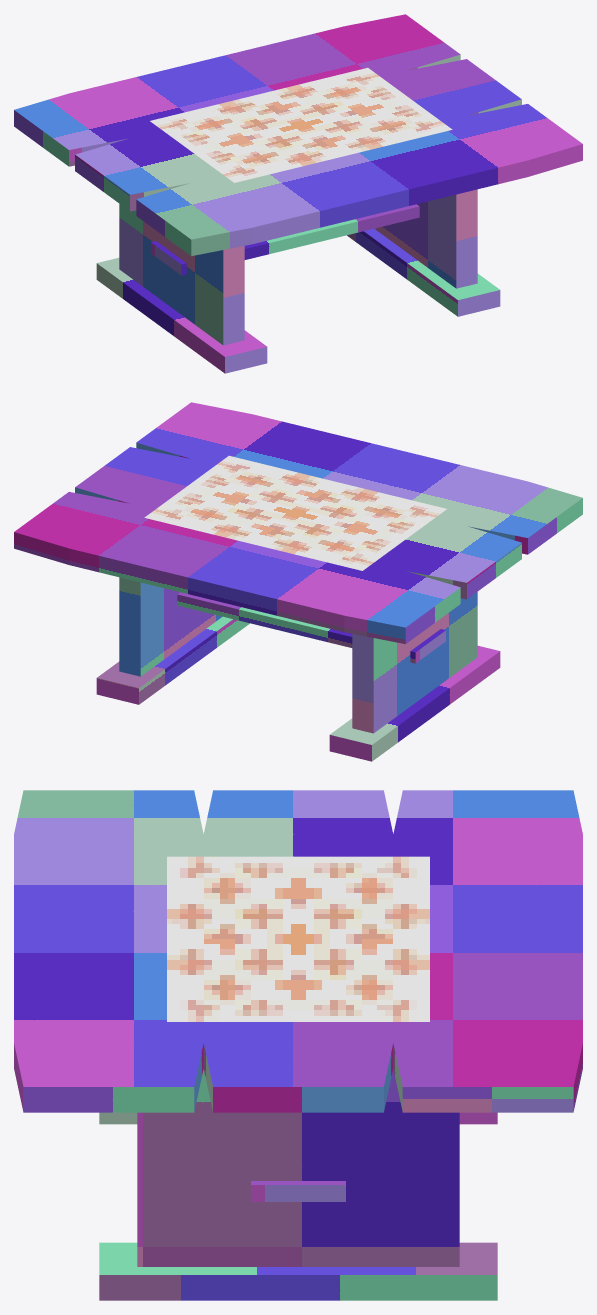
File: rmk_grn_tableL_jwl.dae
3 renders of one model, top to bottom at view 1: azimuth 30°, elevation 25°; view 2: azimuth 150°, elevation 25°; view 3: azimuth 270°, elevation 25°, orthographic. The views are drawn at different scales.
Visible parts, largest first — view 1: rmk_grn_tableL_jwl; view 2: rmk_grn_tableL_jwl; view 3: rmk_grn_tableL_jwl.
Boxes of the visible parts, x1,y1,x2,y2 form: rmk_grn_tableL_jwl: (14, 14, 582, 373); rmk_grn_tableL_jwl: (14, 402, 582, 761); rmk_grn_tableL_jwl: (14, 790, 582, 1300).
Size of the model in its own units: 59.2 by 24.13 by 48.
2 materials, 2 textured.
